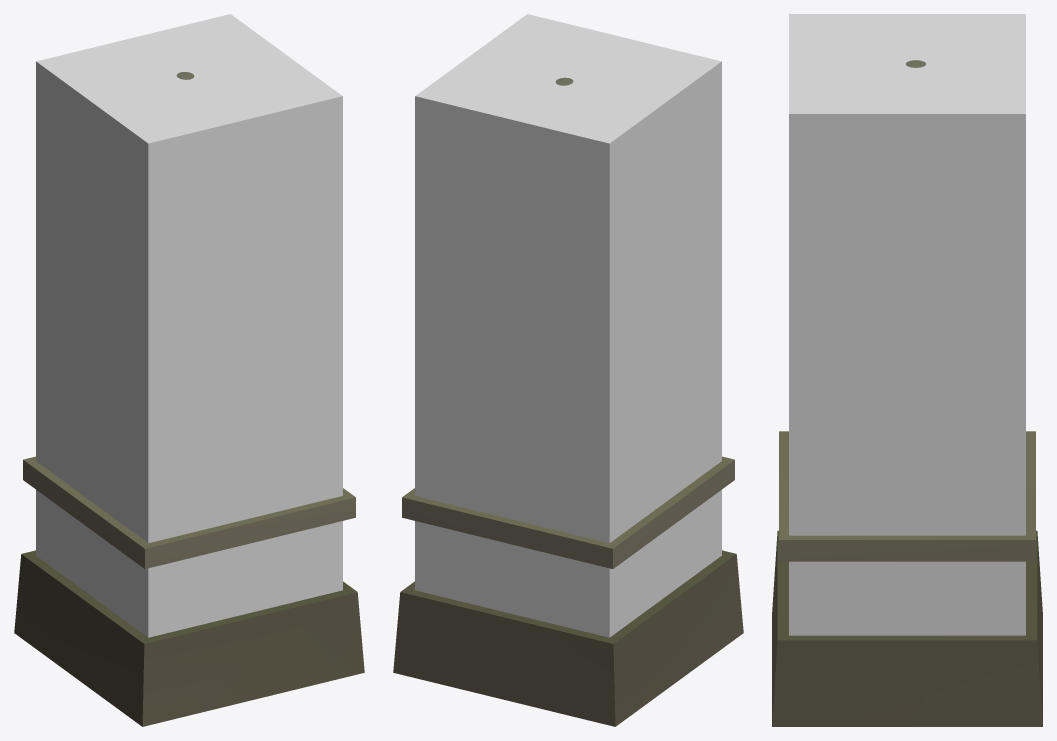
Rendered from statue_knight.glb.
The picture shows the model from 3 angles, left to right: view 1: azimuth 30°, elevation 25°; view 2: azimuth 150°, elevation 25°; view 3: azimuth 270°, elevation 25°; orthographic projection. The views are drawn at different scales.
Parts seen in each view (by area): view 1: COL_statue, statue_knight; view 2: COL_statue, statue_knight; view 3: COL_statue, statue_knight.
Part boxes in pixels (x1=…): COL_statue: x1=36, y1=14, x2=342, y2=637; statue_knight: x1=14, y1=72, x2=364, y2=726; COL_statue: x1=415, y1=14, x2=721, y2=637; statue_knight: x1=393, y1=77, x2=743, y2=726; COL_statue: x1=789, y1=14, x2=1025, y2=635; statue_knight: x1=772, y1=60, x2=1042, y2=726.
Size of the model in its own units: 1.6 by 3.96 by 1.6.
